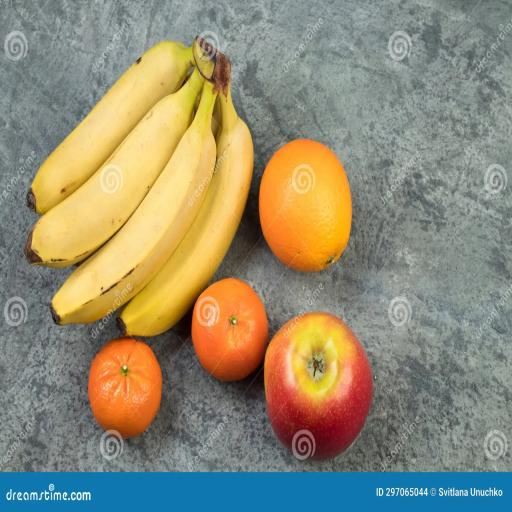apple: (265, 313, 372, 459)
banana: (51, 82, 216, 324), (25, 69, 203, 267), (118, 90, 253, 336), (27, 42, 193, 213)
orange: (260, 140, 351, 271), (192, 279, 268, 380), (89, 338, 161, 438)
